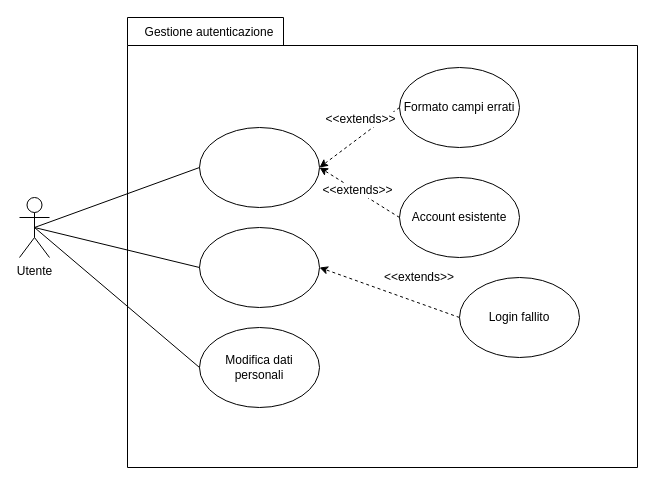
This 655x485 diagram has some shape labels left out. Each missing label, with the centre of its shape:
Login: (x=259, y=267)
Registrazione: (x=259, y=167)
